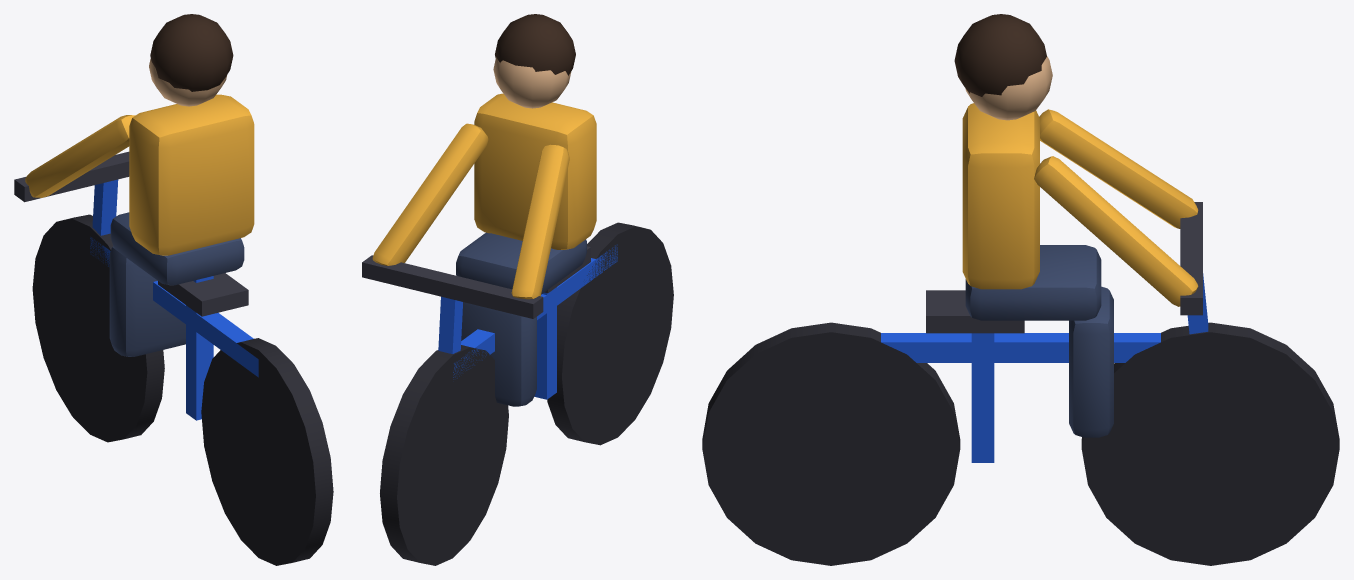
File: bicycle.glb
3 views of the same model, side by side, from view 1: azimuth 30°, elevation 25°; view 2: azimuth 150°, elevation 25°; view 3: azimuth 270°, elevation 25° (orthographic). The views are drawn at different scales.
Parts seen in each view (by area): view 1: body; view 2: body; view 3: body.
Boxes of the visible parts, x1=… form: body: x1=14, y1=14, x2=333, y2=565; body: x1=362, y1=14, x2=673, y2=565; body: x1=702, y1=14, x2=1339, y2=565.
Size of the model in its own units: 0.6 by 1.58 by 1.68.
